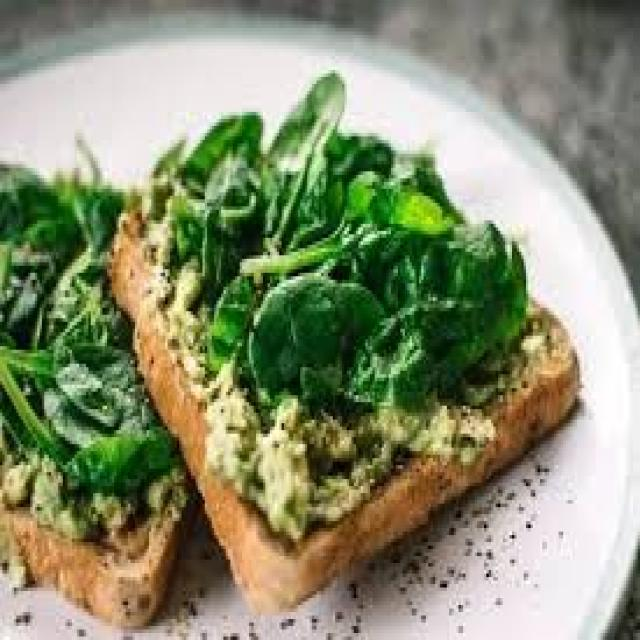food_waste: (0, 73, 575, 623)
